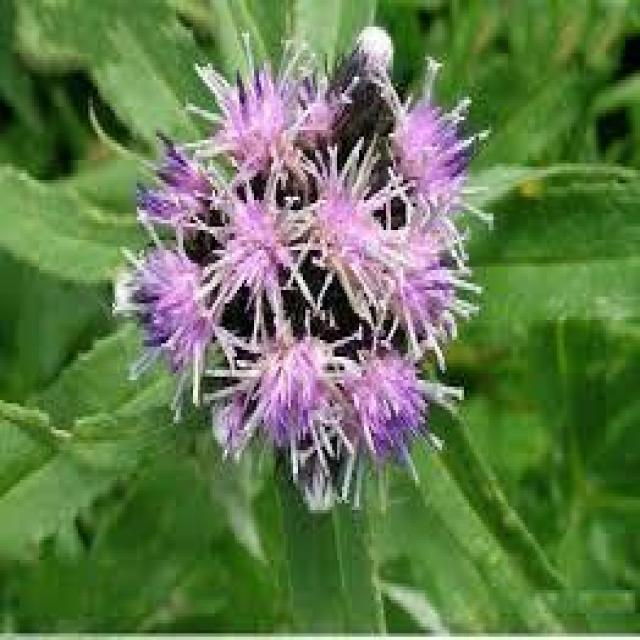organic waste: (111, 36, 470, 506)
